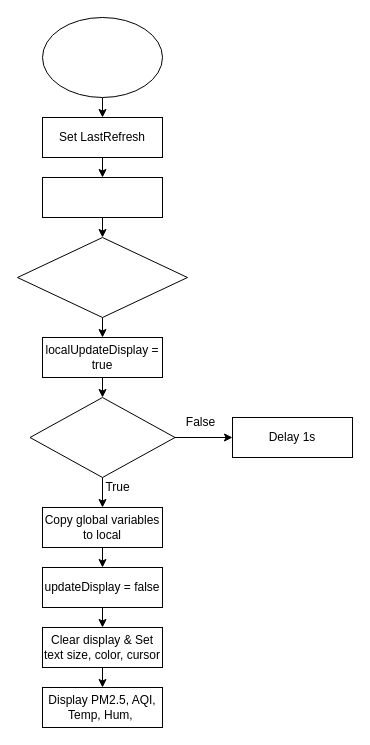
The diagram is 370 pixels wide and 745 high, and some of its shapes have lost their labels. The centre of each missing label's shape, as x and y in pixels:
"!isAPMode && localUpdateDisplay" goes at [102,437].
"Copy updateDisplay to localUpdateDisplay" goes at [102,197].
"millis() - lastRefresh > 60000" goes at [102,277].
"Start TaskDisplay" goes at [102,57].
